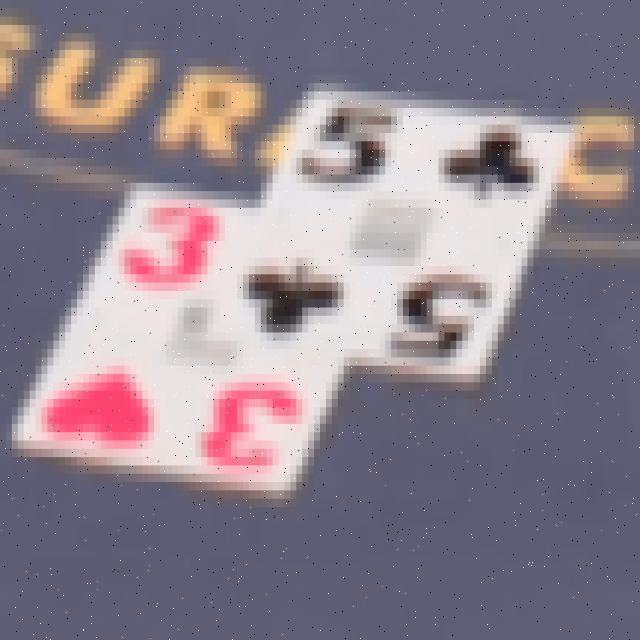Card-3: (14, 190, 343, 495)
Card-5: (209, 86, 570, 381)
